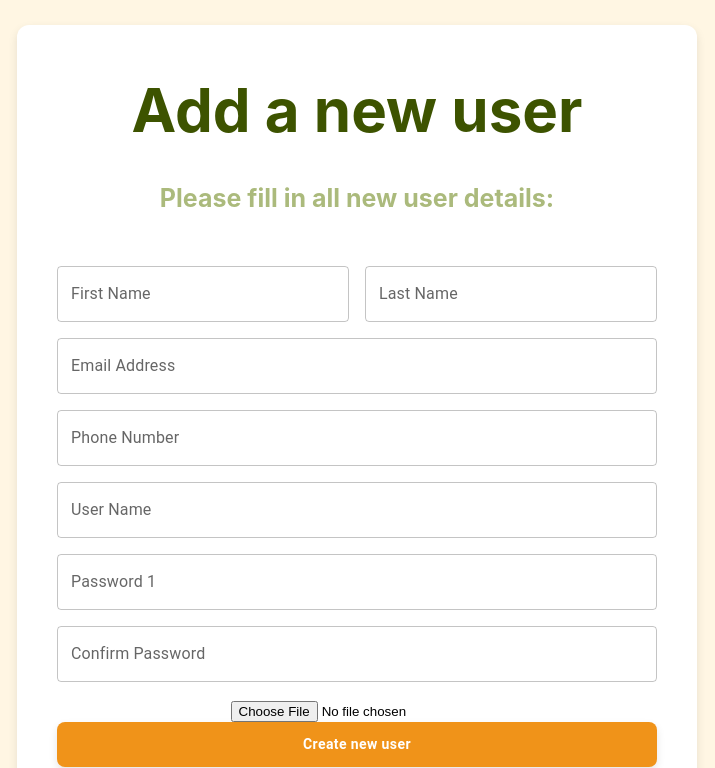
AddUserForm Component › should show validation errors for required fields when submitted with empty values
This screenshot has width=715, height=768.
Click the button "Create new user" at (357, 744), box [57,722,657,767]
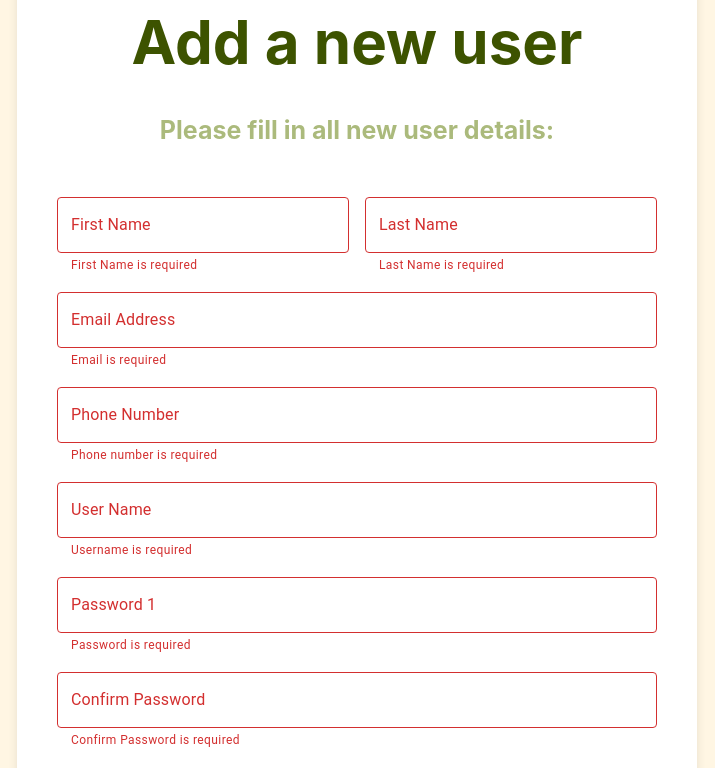
Expected: the text "First Name is required" is shown, [71,258,197,272]
Expected: the text "Last Name is required" is shown, [379,258,504,272]
Expected: the text "Email is required" is shown, [71,353,166,367]
